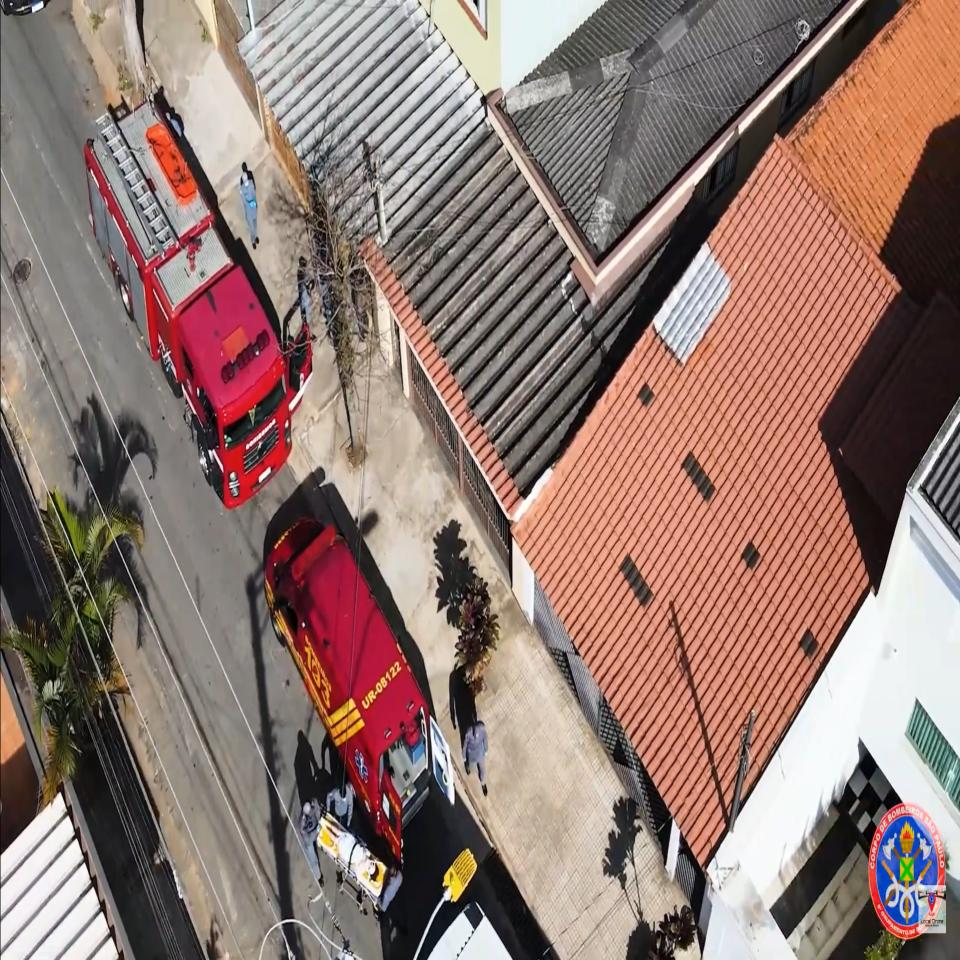viatura: (142, 243, 294, 506)
